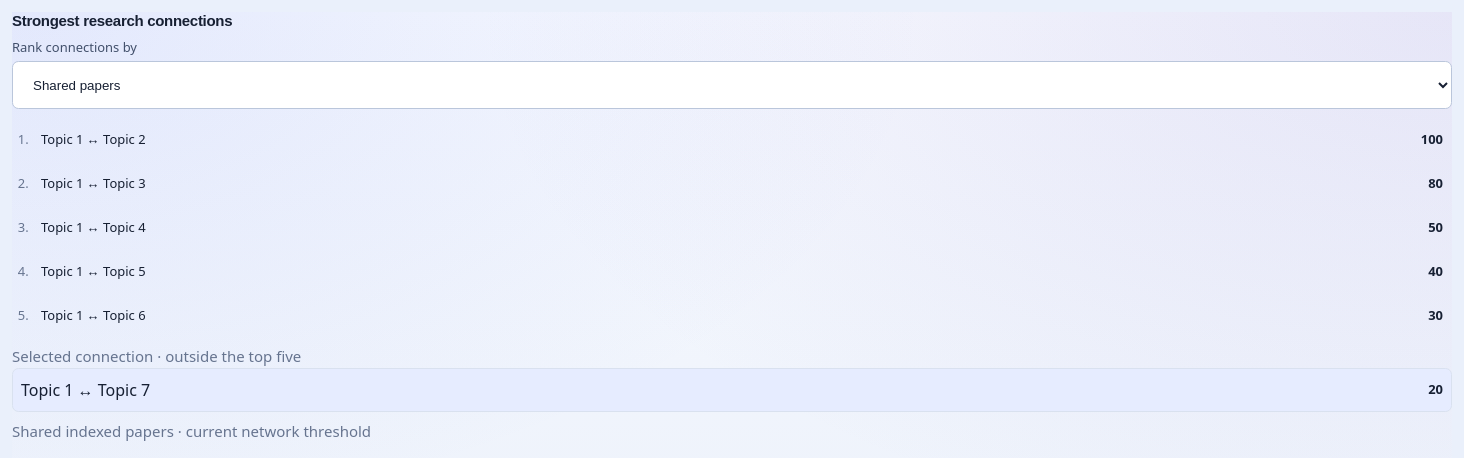
Test case: Strongest connections › limits the ranked list to five, supports keyboard previews, selection, ranking and outside-list selections
Earlier steps of the test are not shown.
Expected: the text "Selected connection · outside the top five" is shown, [12,346,301,366]
Step 1. Select "Jaccard similarity" in the dropdown labelled "Rank connections by" → (732, 85), box [12,61,1452,109]
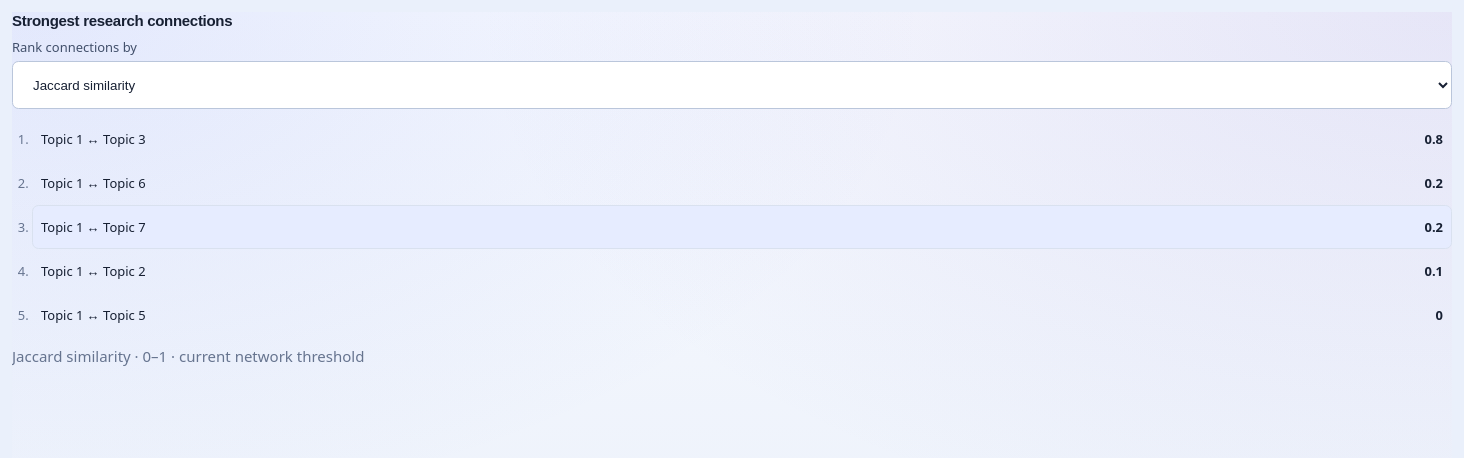
Expected: the button "Topic 1 ↔ Topic 3 0.8" is shown, [32,117,1452,161]
Now the text "Selected connection · outside the top five" is gone
Now the button with aria-label "Select Topic 1 ↔ Topic 5: Jaccard 0" is shown, box [32,293,1452,337]
